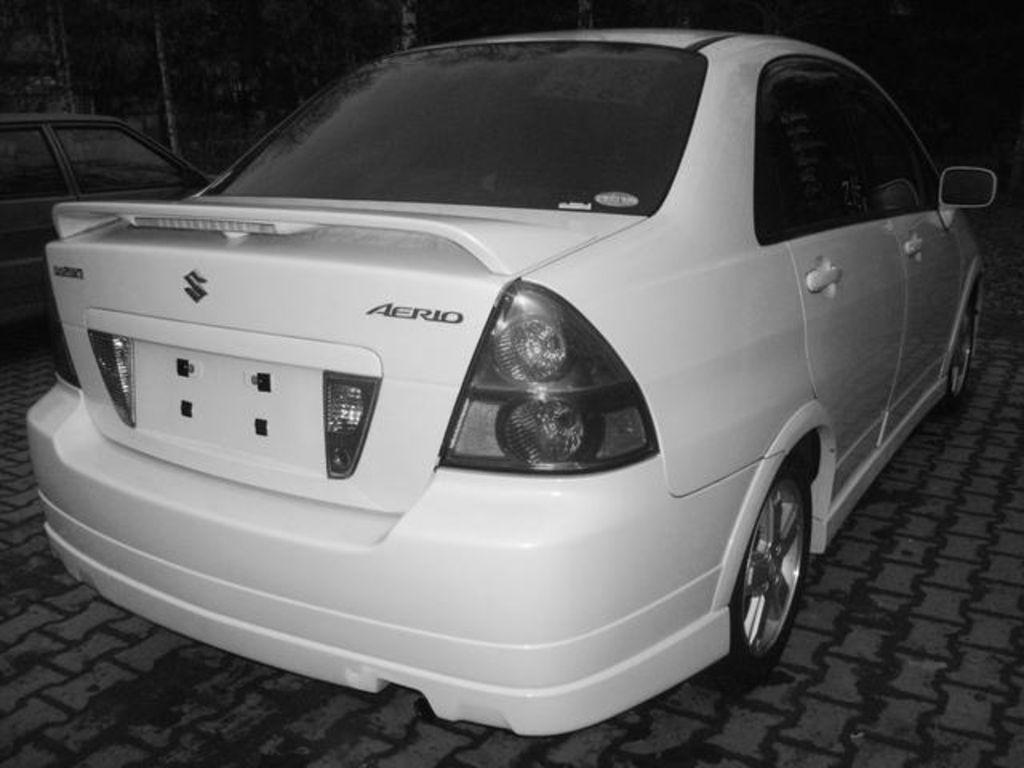car: (22, 22, 1011, 744)
